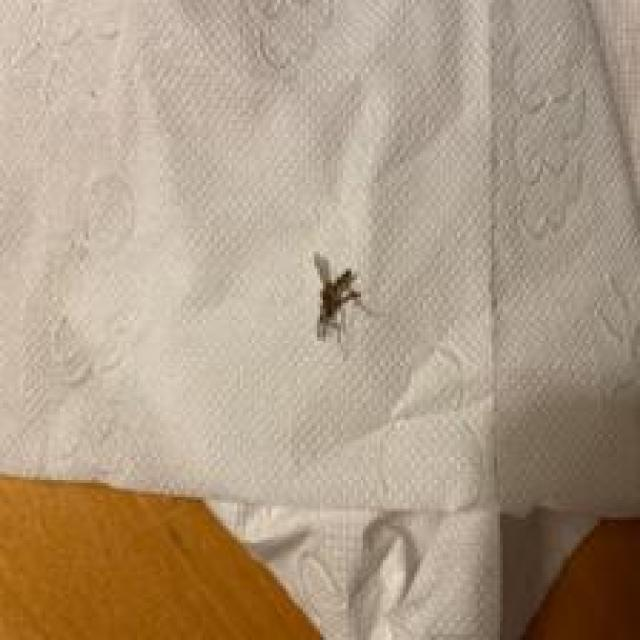Culex: (310, 250, 364, 344)
